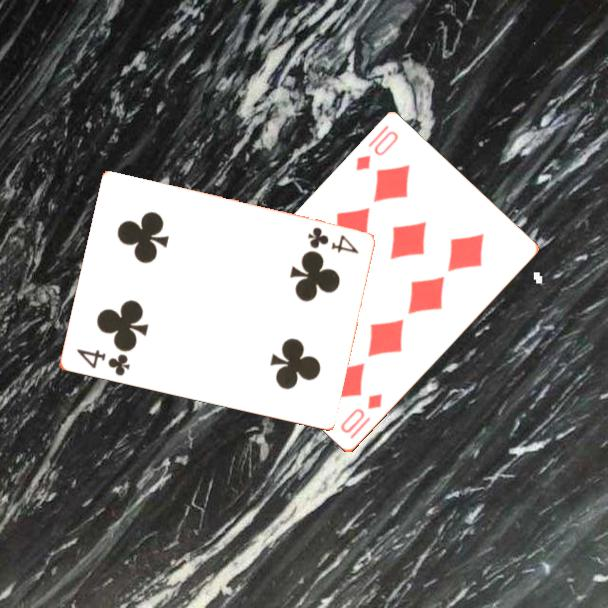c04: (72, 346, 133, 379), (303, 224, 361, 257)
d10: (352, 122, 401, 174), (337, 390, 385, 437)
